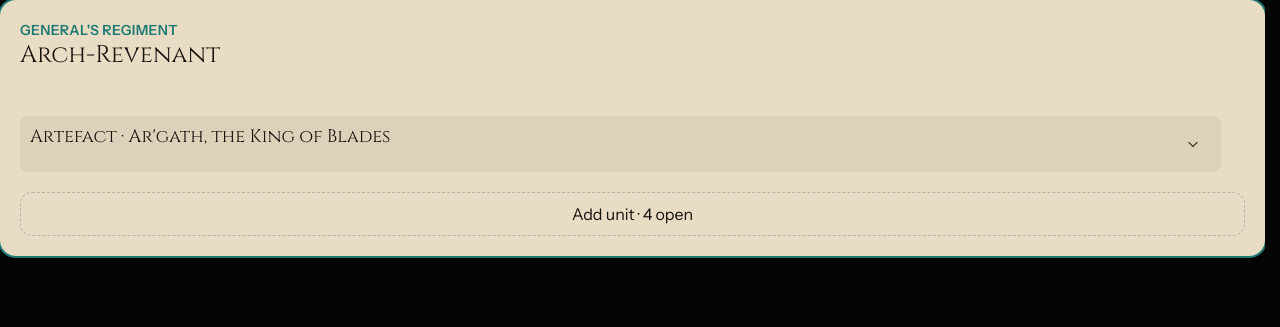
RegimentCard › expands a chosen artefact when the title is pressed
Click the button "Artefact · Ar'gath, the King of Blades": (210, 136) [20, 116, 1221, 172]
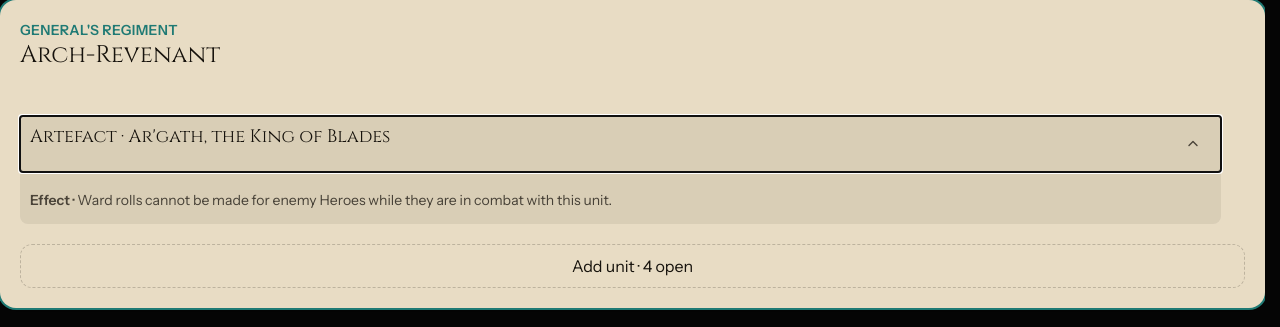
Expected: the text "Ward rolls cannot be made" is shown, [77, 191, 612, 209]
